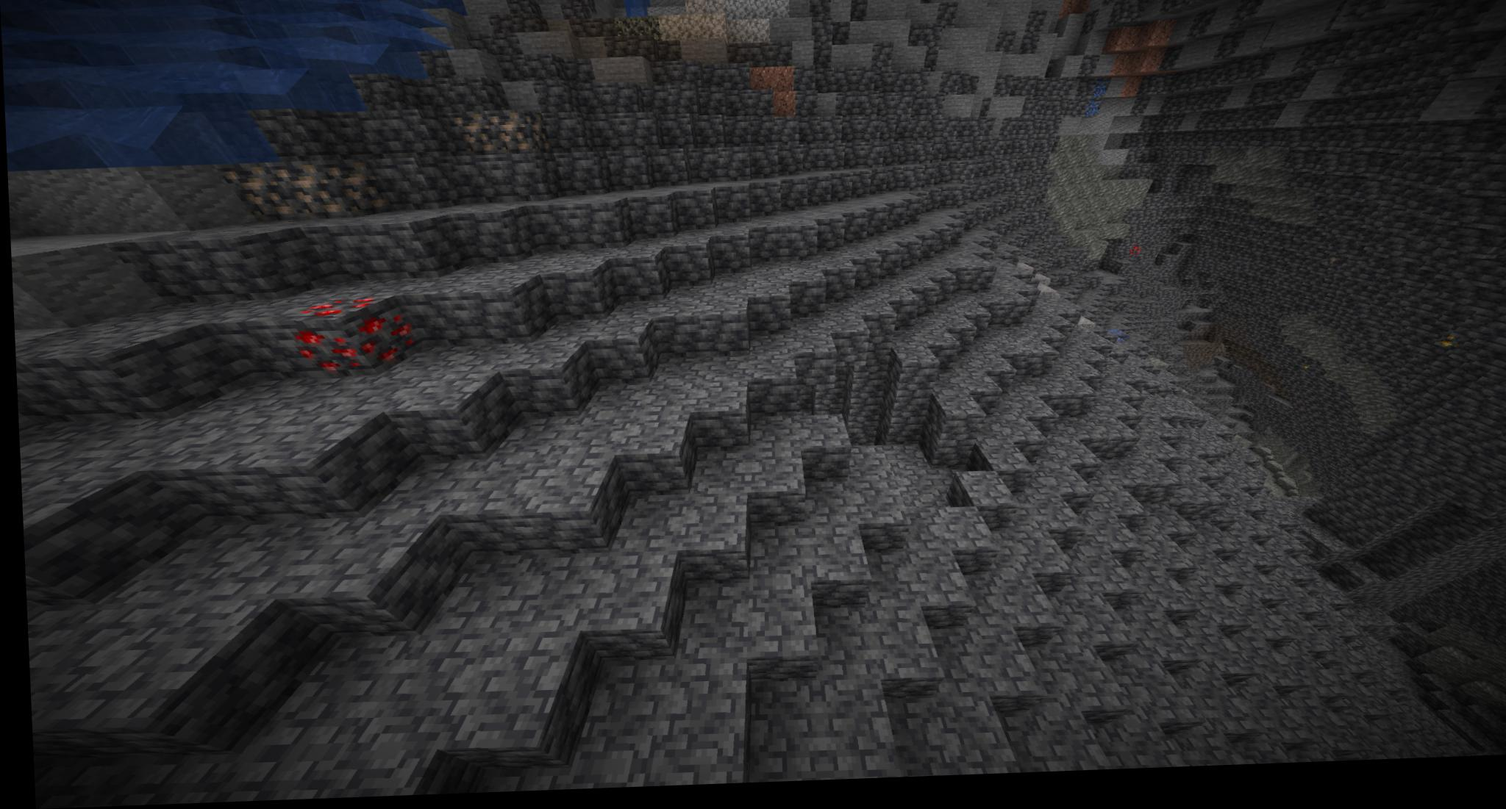iron ore: (279, 154, 382, 224), (228, 158, 295, 225), (453, 114, 543, 156)
redstone ore: (297, 296, 409, 384)
